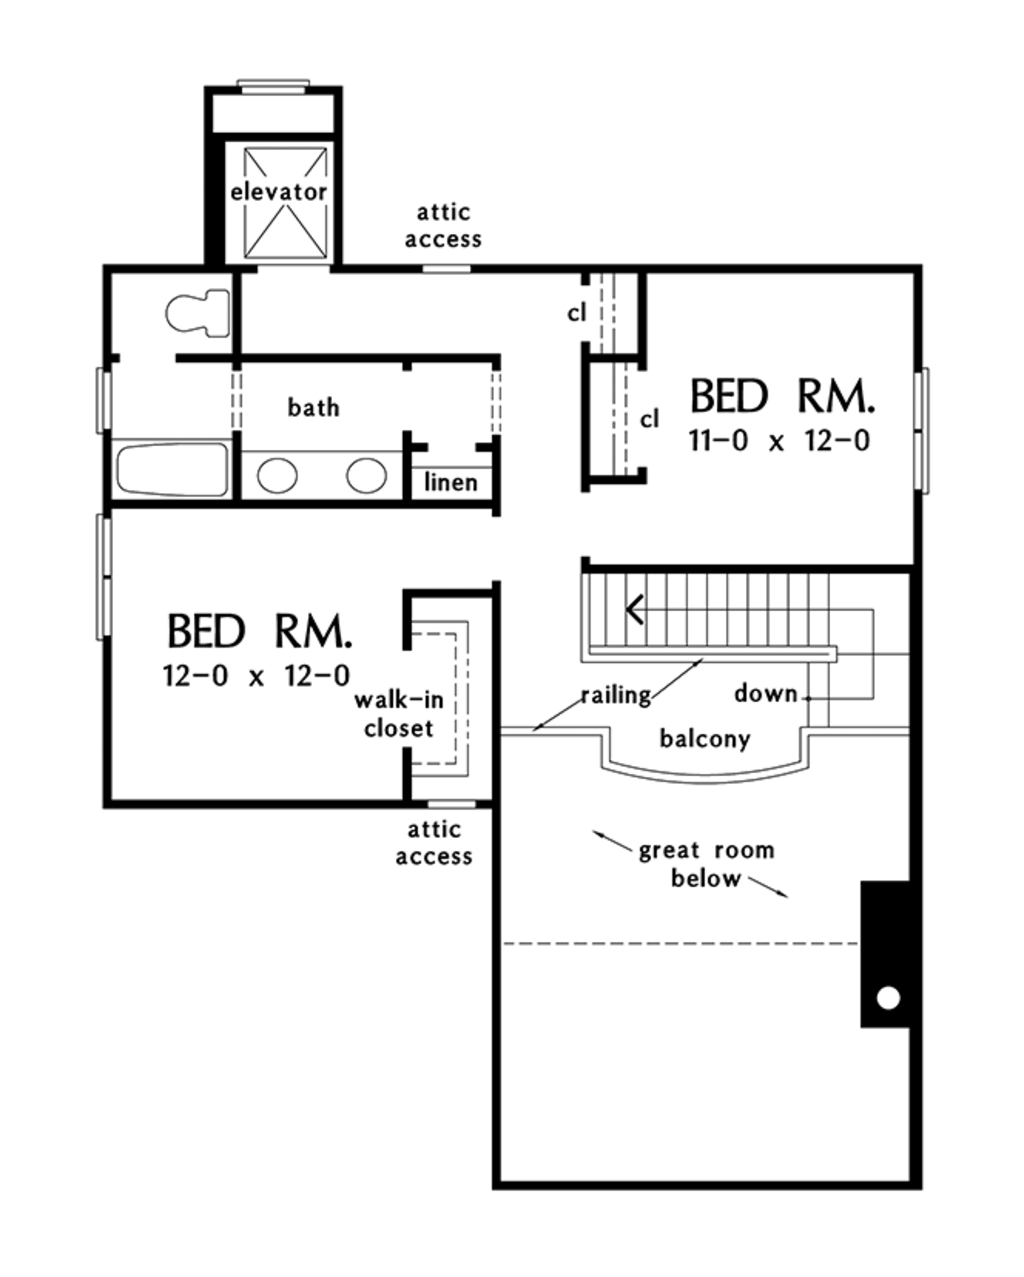large_sink: (165, 283, 237, 363)
small_sink: (343, 449, 405, 501), (241, 451, 301, 497)
stairs: (577, 571, 905, 711)
tub: (104, 435, 235, 503)
window: (903, 359, 931, 500), (93, 513, 121, 649), (89, 367, 119, 423), (243, 75, 311, 93), (421, 257, 467, 275)
